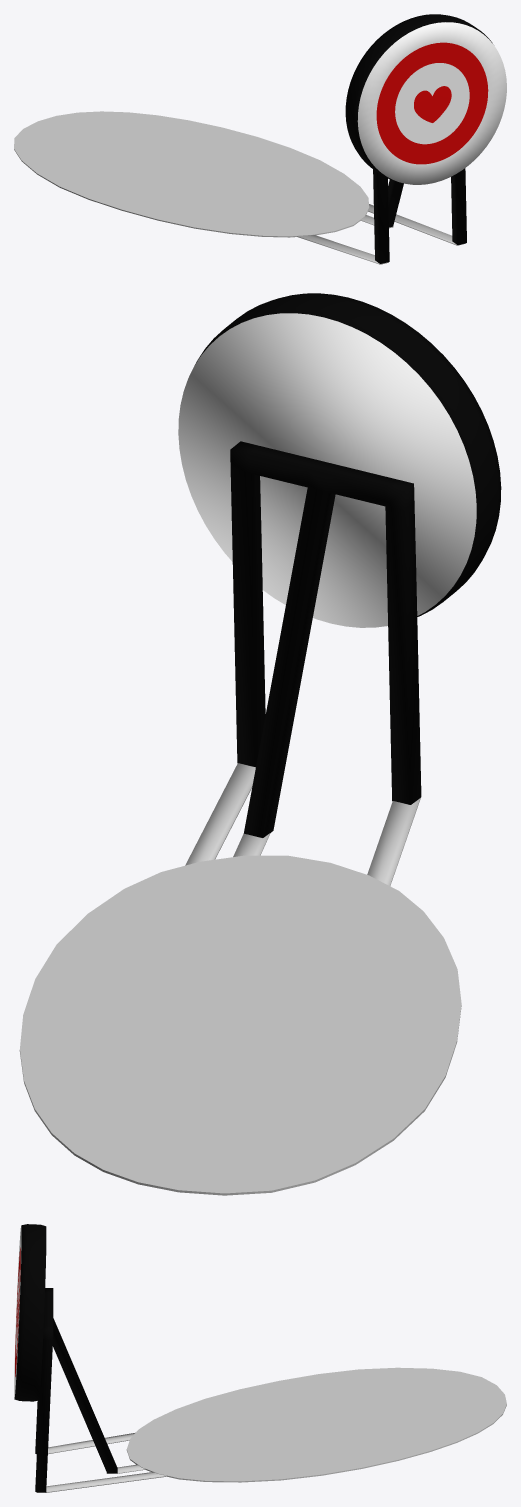
Rendered from taulu_heart.obj.
3 renders of one model, top to bottom at view 1: azimuth 30°, elevation 25°; view 2: azimuth 150°, elevation 25°; view 3: azimuth 270°, elevation 25°, orthographic. The views are drawn at different scales.
Parts seen in each view (by area): view 1: cone3, cylinder1, cube2, cube4_copy5, cube4; view 2: cone3, cylinder1, cube2, cube4, cube4_copy5; view 3: cone3, cylinder1, cube2, cube4, cube4_copy5.
Boxes of the visible parts, box(x1,y1,x2,y2) form: cone3: box(14, 111, 369, 237); cylinder1: box(345, 14, 506, 184); cube2: box(373, 168, 466, 263); cube4_copy5: box(297, 235, 388, 264); cube4: box(368, 204, 465, 245); cone3: box(19, 855, 461, 1195); cylinder1: box(178, 293, 501, 627); cube2: box(230, 441, 421, 837); cube4: box(185, 763, 255, 865); cube4_copy5: box(367, 798, 420, 885); cone3: box(126, 1367, 506, 1482); cylinder1: box(14, 1224, 46, 1401); cube2: box(35, 1288, 117, 1492); cube4: box(36, 1472, 166, 1492); cube4_copy5: box(36, 1432, 135, 1454).
Size of the model in its own units: 3.8 by 3.03 by 5.65.
